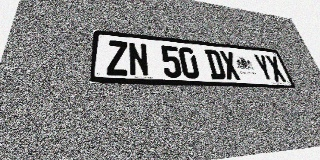0: (178, 47, 200, 79)
5: (161, 45, 183, 78)
D: (204, 49, 227, 80)
N: (128, 42, 150, 77)
X: (219, 51, 242, 80), (265, 55, 287, 82)
Y: (253, 54, 275, 81)
Z: (107, 40, 129, 76)
